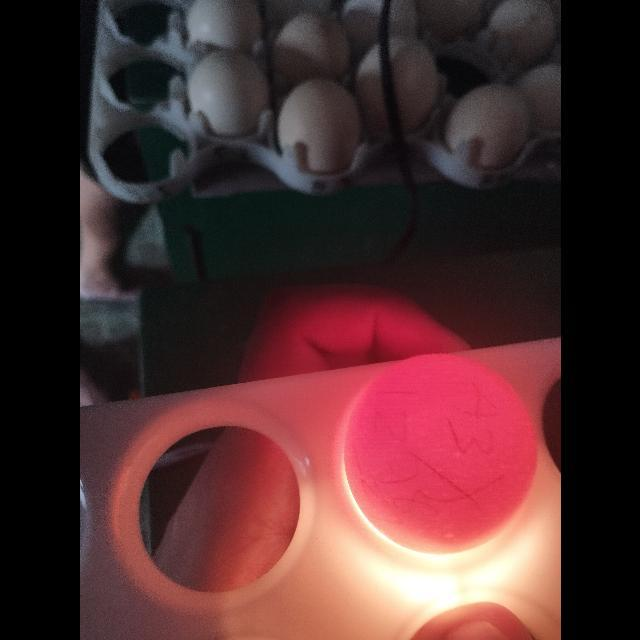Infertile: (340, 350, 542, 562)
